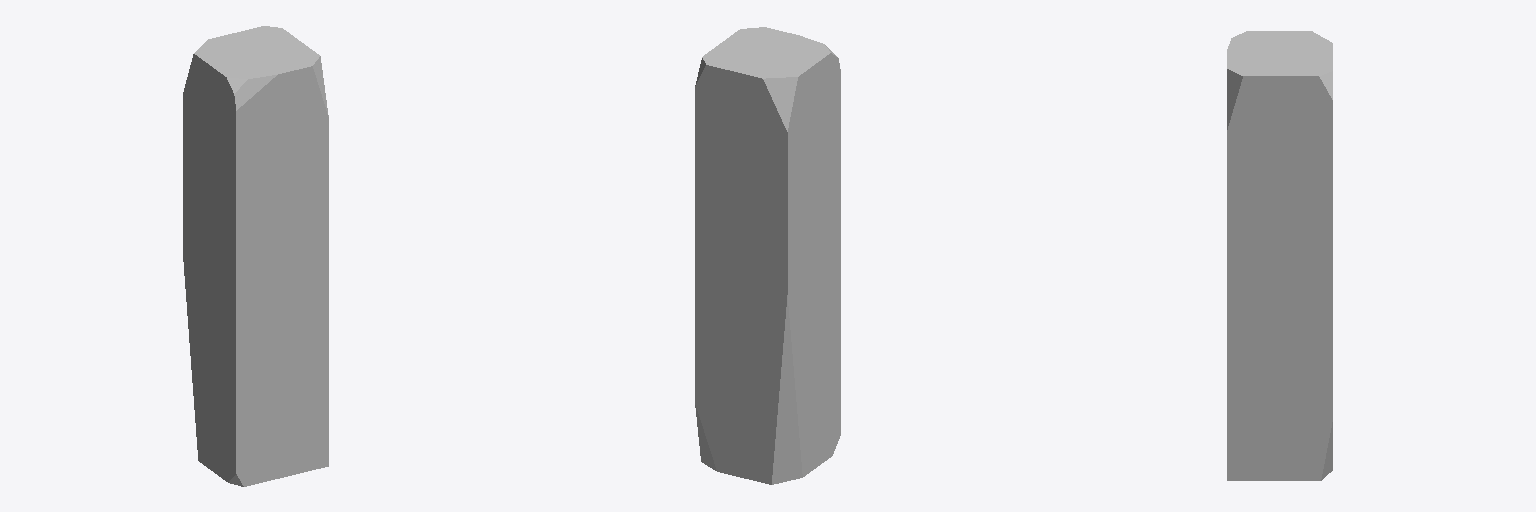
The model's file is RockPillar3.obj.
The picture shows the model from 3 angles: view 1: azimuth 30°, elevation 25°; view 2: azimuth 150°, elevation 25°; view 3: azimuth 270°, elevation 25°; orthographic projection.
Parts seen in each view (by area): view 1: Cube_009; view 2: Cube_009; view 3: Cube_009.
Part boxes in pixels (bbox=[...]): Cube_009: bbox=[183, 26, 328, 486]; Cube_009: bbox=[695, 27, 840, 484]; Cube_009: bbox=[1227, 31, 1332, 480].
Size of the model in its own units: 63.65 by 266 by 63.65.